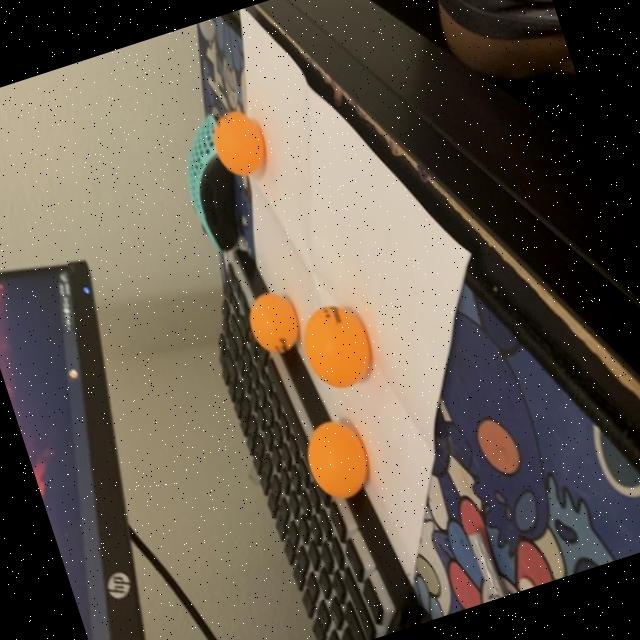ping-pong-ball: (290, 290, 388, 402), (290, 406, 382, 514), (201, 99, 276, 186), (237, 280, 310, 366)
